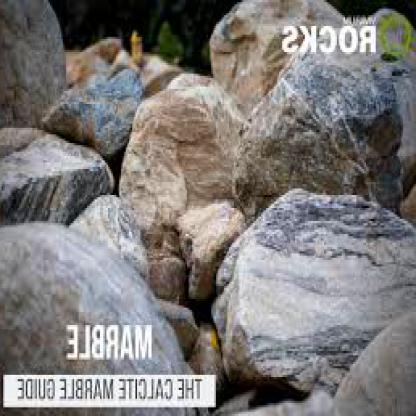Metamorphic_Marble: (213, 171, 415, 395), (1, 110, 118, 238)
